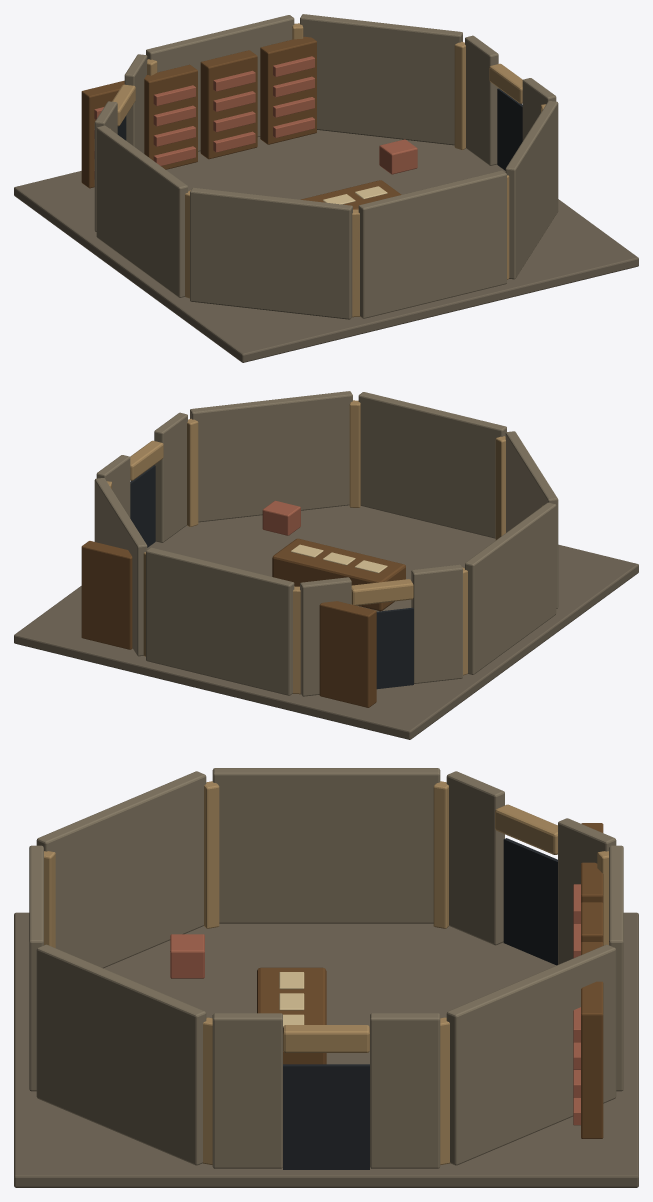
Rendered from help_library_3978.glb.
3 renders of one model, top to bottom at view 1: azimuth 30°, elevation 25°; view 2: azimuth 150°, elevation 25°; view 3: azimuth 270°, elevation 25°, orthographic. The views are drawn at different scales.
Parts seen in each view (by area): view 1: Room floor, SW solid wall, S solid wall, NE solid wall, W solid wall, SE solid wall, N solid wall, North bookcase.002, North bookcase.003, E doorway left, North bookcase.001, North bookcase (+23 smaller); view 2: Room floor, SE solid wall, N solid wall, S solid wall, W solid wall, NW doorway left, North bookcase, North bookcase.004, Reading table, E doorway right, NE solid wall, SW solid wall (+12 smaller); view 3: Room floor, W solid wall, SE solid wall, NE solid wall, SW solid wall, E doorway left, E doorway right, E passage shadow, NW doorway left, NW passage shadow, NW doorway right, North bookcase.004 (+14 smaller).
Part boxes in pixels (bbox=[...]): Room floor: bbox=[14, 130, 638, 362]; SW solid wall: bbox=[190, 187, 352, 319]; S solid wall: bbox=[358, 170, 506, 318]; NE solid wall: bbox=[300, 14, 462, 145]; W solid wall: bbox=[96, 125, 187, 297]; SE solid wall: bbox=[505, 101, 558, 279]; N solid wall: bbox=[146, 15, 294, 151]; North bookcase.002: bbox=[200, 50, 257, 159]; North bookcase.003: bbox=[260, 36, 316, 144]; E doorway left: bbox=[465, 35, 498, 165]; North bookcase.001: bbox=[144, 64, 197, 169]; North bookcase: bbox=[81, 80, 124, 188]; Room floor: bbox=[14, 505, 638, 739]; SE solid wall: bbox=[190, 391, 352, 522]; N solid wall: bbox=[146, 547, 294, 695]; S solid wall: bbox=[358, 392, 506, 538]; W solid wall: bbox=[465, 502, 556, 674]; NW doorway left: bbox=[411, 564, 462, 683]; North bookcase: bbox=[319, 601, 376, 707]; North bookcase.004: bbox=[81, 541, 132, 649]; Reading table: bbox=[272, 538, 405, 611]; E doorway right: bbox=[154, 412, 187, 542]; NE solid wall: bbox=[94, 478, 147, 656]; SW solid wall: bbox=[505, 431, 558, 608]; Room floor: bbox=[14, 912, 638, 1187]; W solid wall: bbox=[212, 768, 440, 923]; SE solid wall: bbox=[36, 944, 206, 1165]; NE solid wall: bbox=[446, 944, 616, 1165]; SW solid wall: bbox=[36, 771, 206, 968]; E doorway left: bbox=[370, 1013, 440, 1168]; E doorway right: bbox=[212, 1013, 282, 1168]; E passage shadow: bbox=[283, 1064, 369, 1169]; NW doorway left: bbox=[446, 771, 504, 945]; NW passage shadow: bbox=[503, 838, 557, 965]; NW doorway right: bbox=[558, 818, 616, 964]; North bookcase.004: bbox=[581, 981, 603, 1138].
Size of the model in its own units: 18 by 5.2 by 18.
